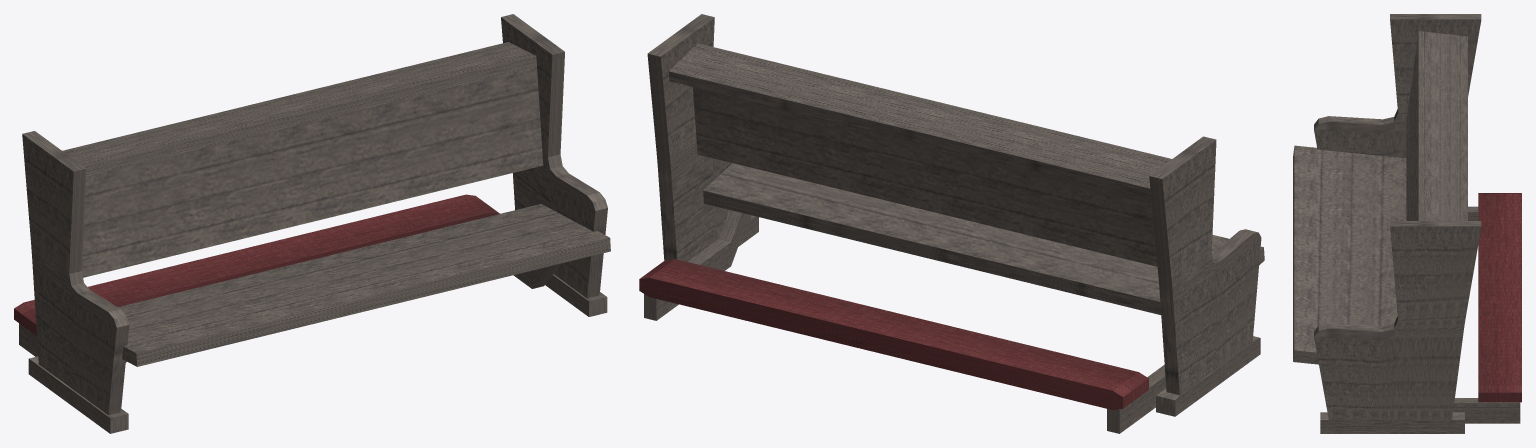
The model's file is chapelchair.fbx.
3 views of the same model, side by side, from view 1: azimuth 30°, elevation 25°; view 2: azimuth 150°, elevation 25°; view 3: azimuth 270°, elevation 25° (orthographic). The views are drawn at different scales.
Parts seen in each view (by area): view 1: Cube.001; view 2: Cube.001; view 3: Cube.001.
Boxes of the visible parts, <box> form: Cube.001: <box>14,14,610,433</box>; Cube.001: <box>639,14,1264,433</box>; Cube.001: <box>1293,14,1521,433</box>.
Size of the model in its own units: 876 by 392 by 394.
2 materials, 2 textured.
